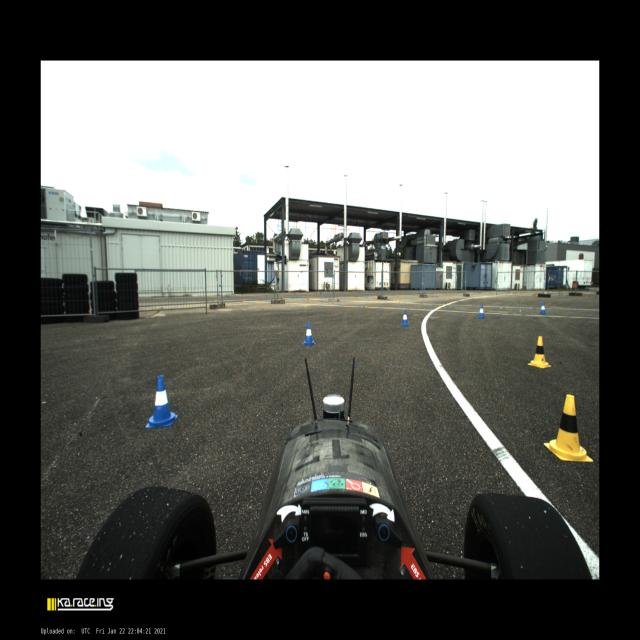blue_cone: (145, 375, 178, 428), (302, 322, 316, 345), (400, 310, 410, 327), (538, 302, 547, 315), (478, 305, 486, 319)
yellow_cone: (544, 394, 593, 462), (528, 336, 551, 368)
